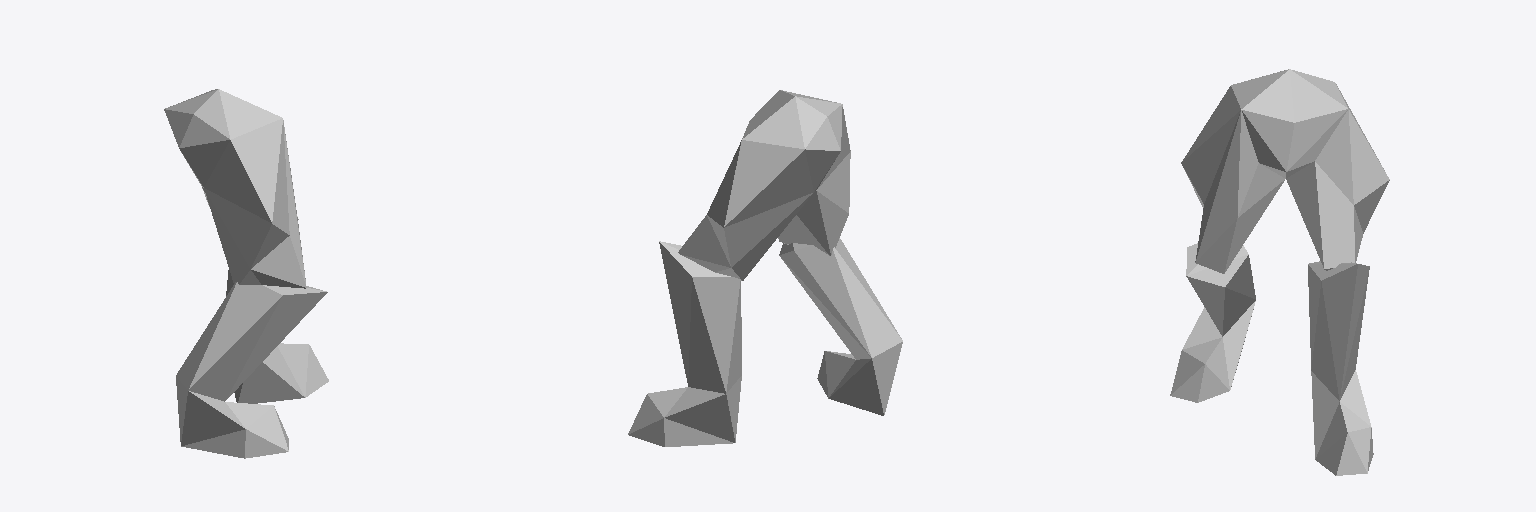
File: lower_2.obj
The picture shows the model from 3 angles: view 1: azimuth 30°, elevation 25°; view 2: azimuth 150°, elevation 25°; view 3: azimuth 270°, elevation 25°; orthographic projection.
Parts seen in each view (by area): view 1: l_legs_2; view 2: l_legs_2; view 3: l_legs_2.
Part boxes in pixels (bbox=[...]): l_legs_2: bbox=[164, 89, 328, 458]; l_legs_2: bbox=[628, 90, 902, 446]; l_legs_2: bbox=[1170, 69, 1389, 475].
Bounding box in the file's own units: 22.8 × 36.72 × 21.36.